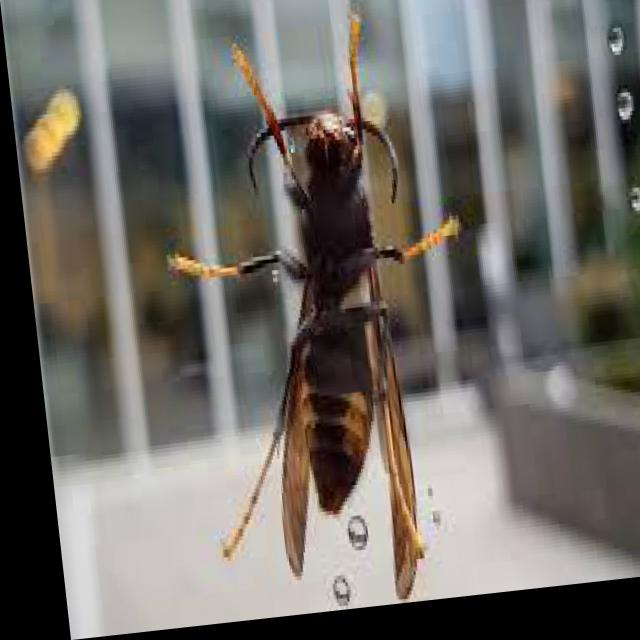Vespa Velutina: (134, 0, 497, 625)
